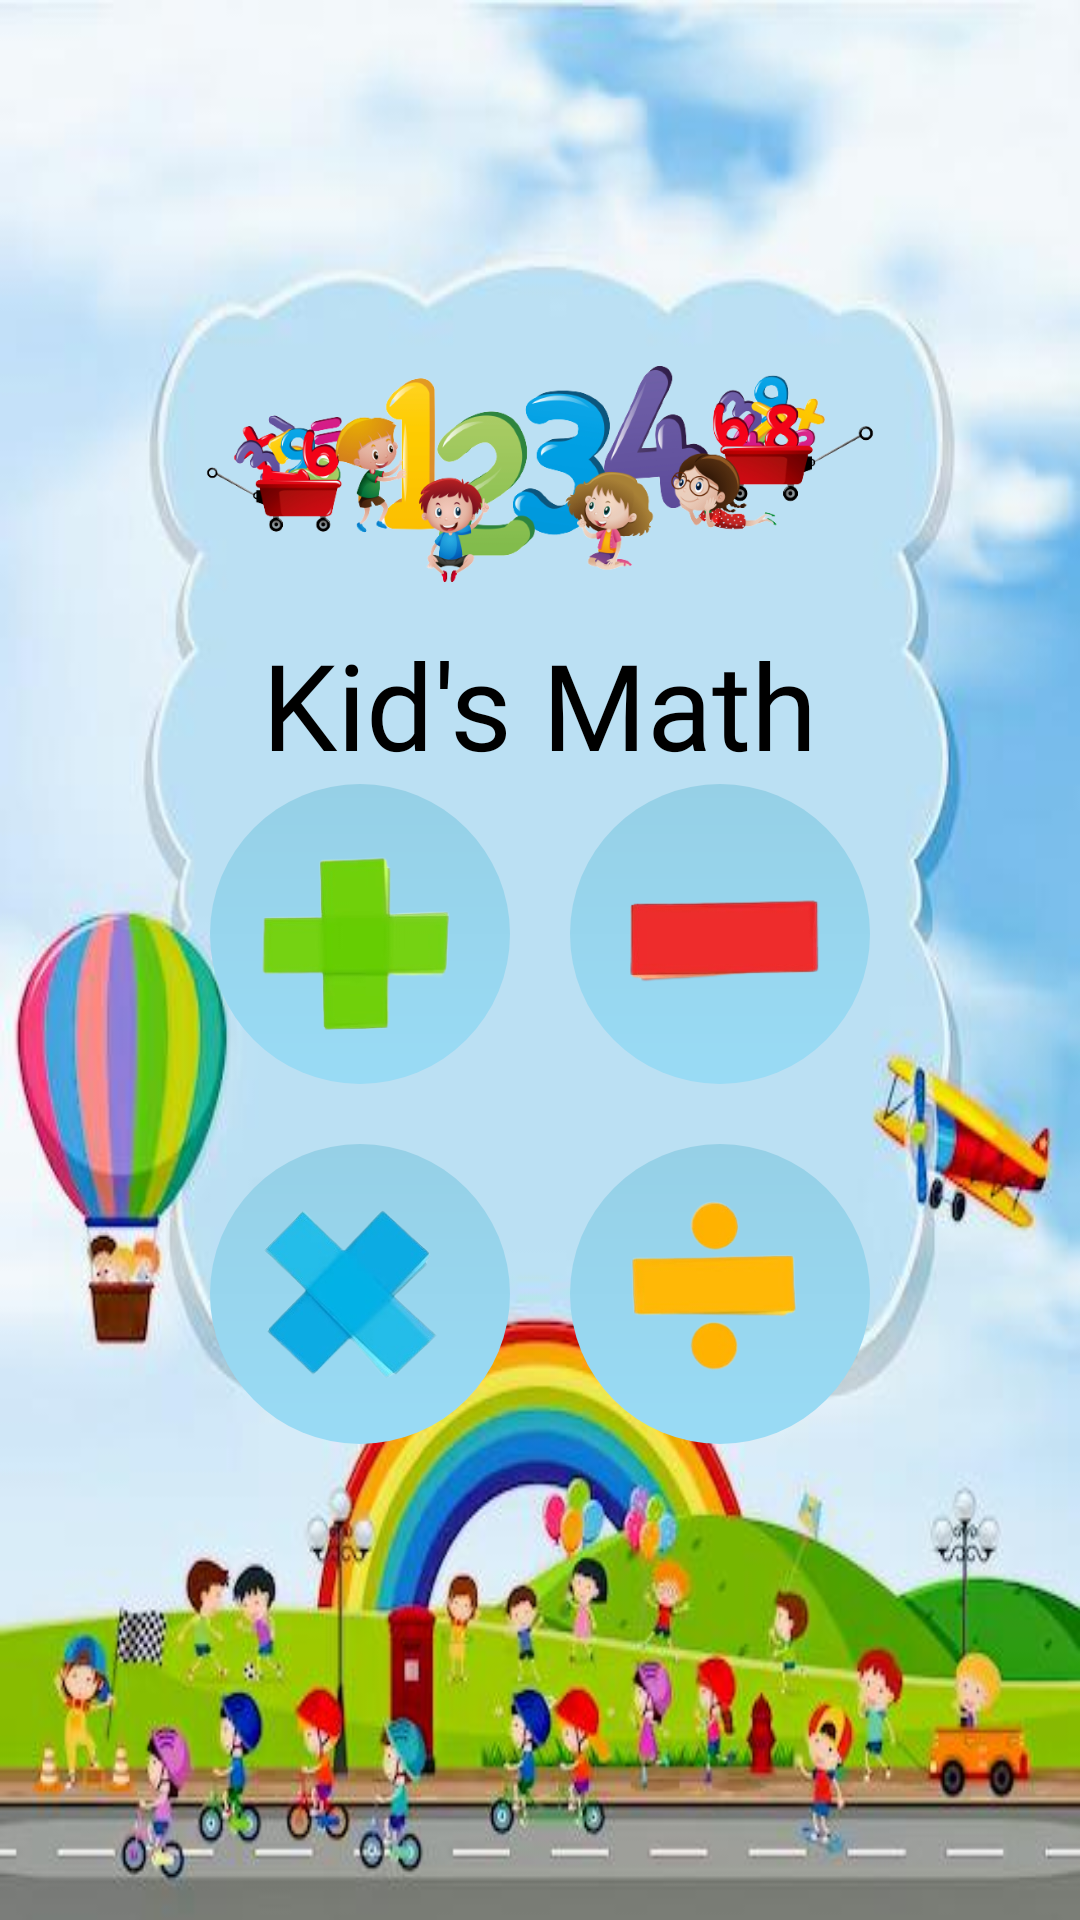

Where to tap for icons on this 1080*1920 app screen, as point (x, y):
divison: point (720, 1294)
minus: point (720, 934)
mul: point (360, 1294)
plus: point (360, 934)
